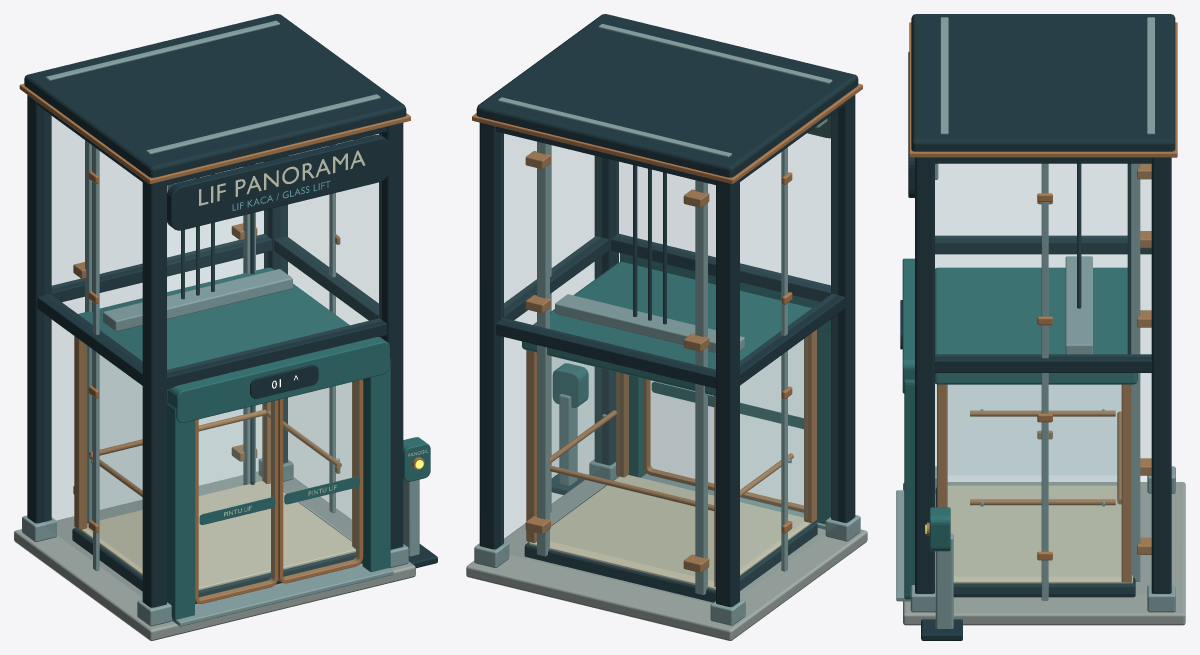
3 renders of one model, left to right at view 1: azimuth 30°, elevation 25°; view 2: azimuth 150°, elevation 25°; view 3: azimuth 270°, elevation 25°, orthographic. The views are drawn at different scales.
Parts seen in each view (by area): view 1: Lif Panorama | Glass Lift - Shaft, Lif Panorama | Glass Lift - Glazing, Lif Panorama | Glass Lift - Landing, Lif Panorama | Glass Lift - Car, Lif Panorama | Glass Lift - Lift Sign, Lif Panorama | Glass Lift - Guide Tracks, Lif Panorama | Glass Lift - Call Panel, Lif Panorama | Glass Lift - Graphics, Lif Panorama | Glass Lift - Car Handrails; view 2: Lif Panorama | Glass Lift - Shaft, Lif Panorama | Glass Lift - Glazing, Lif Panorama | Glass Lift - Car, Lif Panorama | Glass Lift - Guide Tracks, Lif Panorama | Glass Lift - Landing, Lif Panorama | Glass Lift - Call Panel, Lif Panorama | Glass Lift - Car Handrails; view 3: Lif Panorama | Glass Lift - Shaft, Lif Panorama | Glass Lift - Car, Lif Panorama | Glass Lift - Shaft Glass, Lif Panorama | Glass Lift - Car Glass, Lif Panorama | Glass Lift - Guide Tracks, Lif Panorama | Glass Lift - Landing, Lif Panorama | Glass Lift - Call Panel, Lif Panorama | Glass Lift - Car Handrails, Lif Panorama | Glass Lift - Lift Sign.
Part boxes in pixels (box(x1,y1,x2,y2)): Lif Panorama | Glass Lift - Shaft: box(14, 14, 415, 640); Lif Panorama | Glass Lift - Glazing: box(100, 186, 359, 600); Lif Panorama | Glass Lift - Landing: box(167, 337, 393, 626); Lif Panorama | Glass Lift - Car: box(72, 267, 362, 604); Lif Panorama | Glass Lift - Lift Sign: box(167, 134, 390, 230); Lif Panorama | Glass Lift - Guide Tracks: box(73, 140, 292, 523); Lif Panorama | Glass Lift - Call Panel: box(403, 437, 437, 568); Lif Panorama | Glass Lift - Graphics: box(224, 364, 427, 516); Lif Panorama | Glass Lift - Car Handrails: box(89, 409, 341, 497); Lif Panorama | Glass Lift - Shaft: box(466, 14, 867, 640); Lif Panorama | Glass Lift - Glazing: box(550, 161, 803, 581); Lif Panorama | Glass Lift - Car: box(522, 262, 817, 602); Lif Panorama | Glass Lift - Guide Tracks: box(525, 141, 744, 594); Lif Panorama | Glass Lift - Landing: box(620, 253, 830, 529); Lif Panorama | Glass Lift - Call Panel: box(551, 363, 588, 494); Lif Panorama | Glass Lift - Car Handrails: box(550, 410, 793, 511); Lif Panorama | Glass Lift - Shaft: box(903, 14, 1185, 625); Lif Panorama | Glass Lift - Car: box(935, 267, 1137, 597); Lif Panorama | Glass Lift - Shaft Glass: box(935, 164, 1151, 475); Lif Panorama | Glass Lift - Car Glass: box(948, 385, 1120, 481); Lif Panorama | Glass Lift - Guide Tracks: box(1065, 163, 1151, 581); Lif Panorama | Glass Lift - Landing: box(896, 258, 914, 601); Lif Panorama | Glass Lift - Call Panel: box(921, 507, 962, 640); Lif Panorama | Glass Lift - Car Handrails: box(970, 409, 1121, 506); Lif Panorama | Glass Lift - Lift Sign: box(908, 52, 938, 197).
Bounding box in the file's own units: 3.19 × 4.84 × 2.62.
